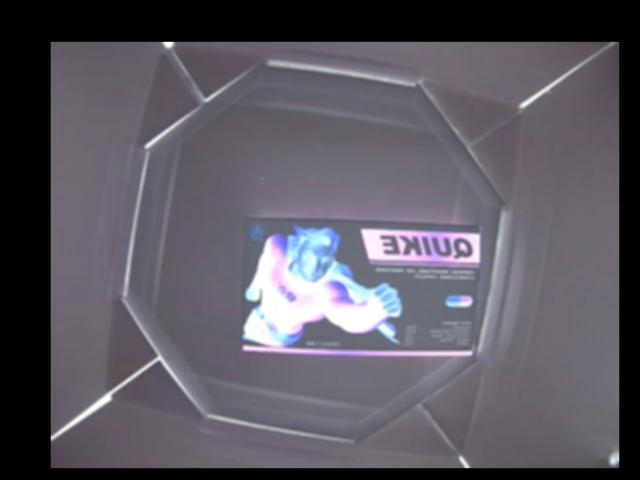Medicine: (240, 215, 481, 363)
